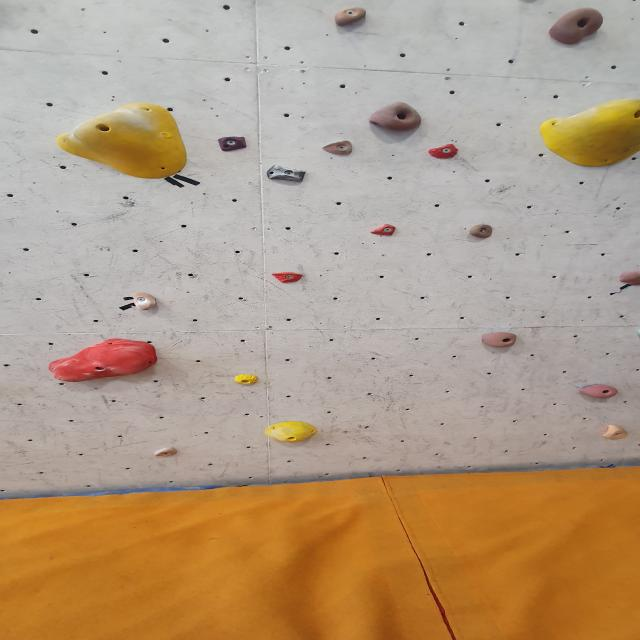Crimp: (331, 6, 371, 28), (319, 140, 356, 158), (215, 136, 252, 153), (426, 144, 462, 161), (366, 225, 398, 239), (270, 273, 306, 285), (232, 374, 262, 388), (150, 448, 180, 460)
Jug: (546, 6, 605, 45), (367, 101, 425, 133), (480, 333, 520, 351), (578, 384, 622, 400), (126, 294, 160, 312), (466, 223, 495, 239), (617, 269, 640, 288)
Pinch: (263, 167, 310, 184), (600, 424, 630, 442)
Sloper: (55, 105, 193, 183), (534, 102, 636, 172), (49, 339, 162, 384), (264, 420, 321, 444)
